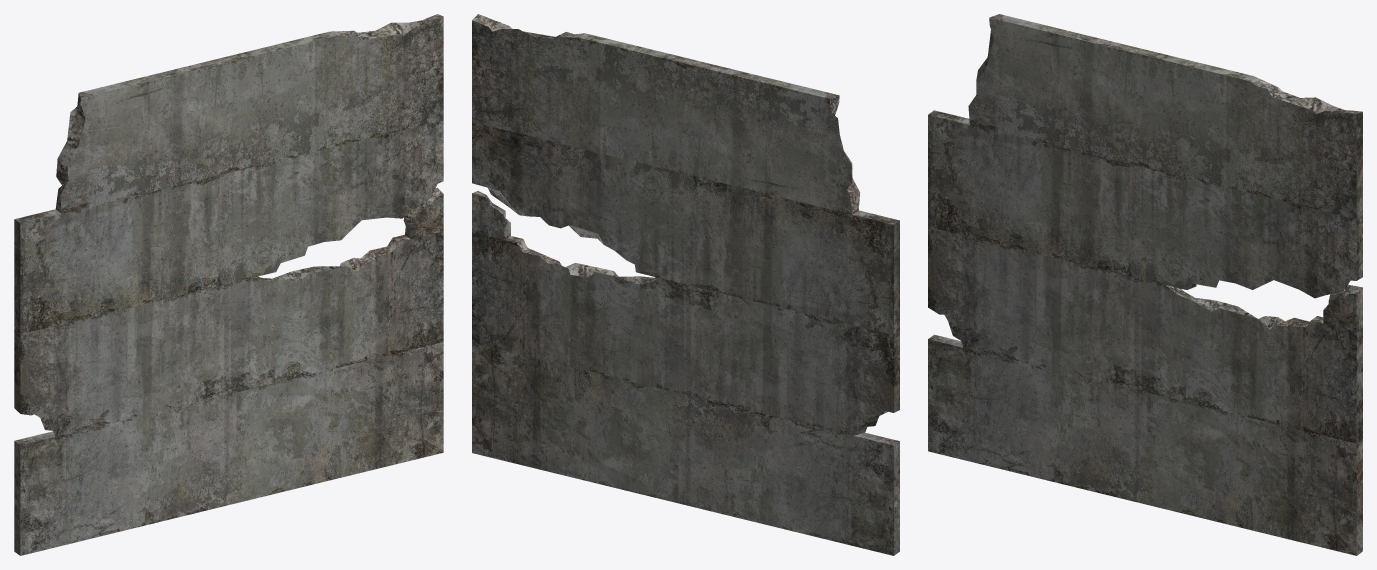
File: Wall2C.fbx
3 renders of one model, left to right at view 1: azimuth 30°, elevation 25°; view 2: azimuth 150°, elevation 25°; view 3: azimuth 330°, elevation 25°, orthographic.
Visible parts, largest first — view 1: polySurface53; view 2: polySurface53; view 3: polySurface53.
Part boxes in pixels (x1,y1,x2,y2): polySurface53: (14,14,443,555); polySurface53: (472,14,899,555); polySurface53: (928,14,1362,555).
Bounding box in the file's own units: 4 × 4 × 0.1.
